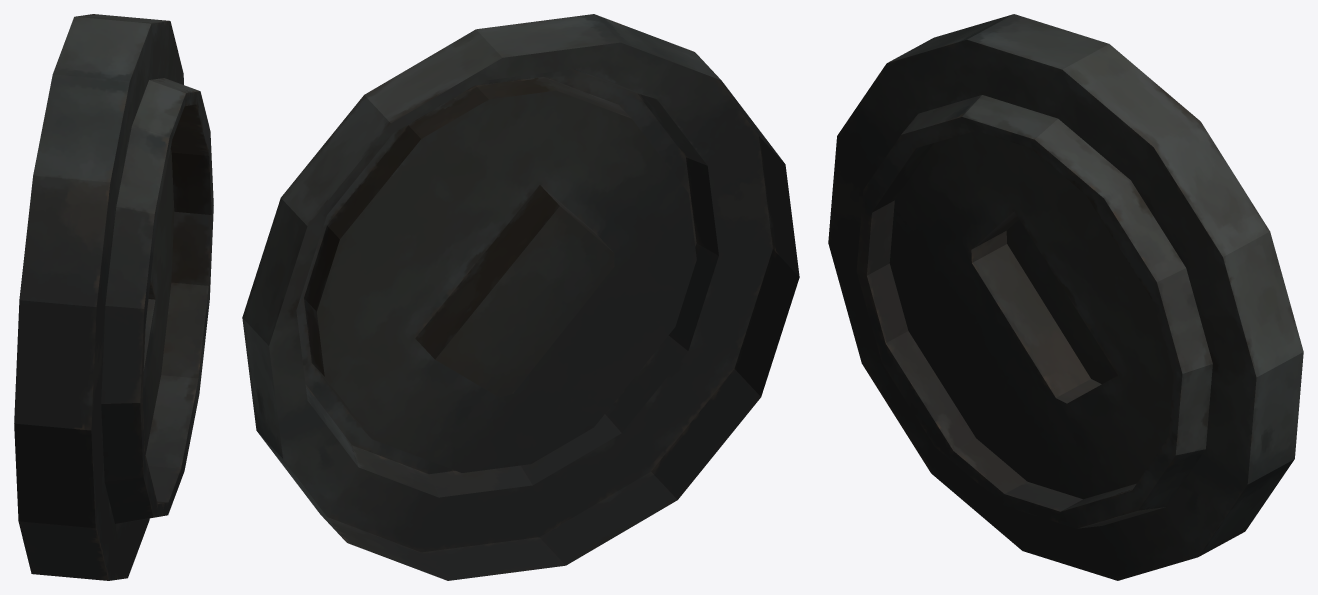
The model's file is ModulForCabel.gltf.
3 views of the same model, side by side, from view 1: azimuth 30°, elevation 25°; view 2: azimuth 150°, elevation 25°; view 3: azimuth 270°, elevation 25° (orthographic). The views are drawn at different scales.
Parts seen in each view (by area): view 1: ModulForCabel; view 2: ModulForCabel; view 3: ModulForCabel.
Boxes of the visible parts, <box> form: ModulForCabel: <box>14,14,213,580</box>; ModulForCabel: <box>242,14,799,580</box>; ModulForCabel: <box>828,14,1303,580</box>.
Size of the model in its own units: 1.92 by 2.59 by 2.22.
Materials: 1 (1 with a texture image).
